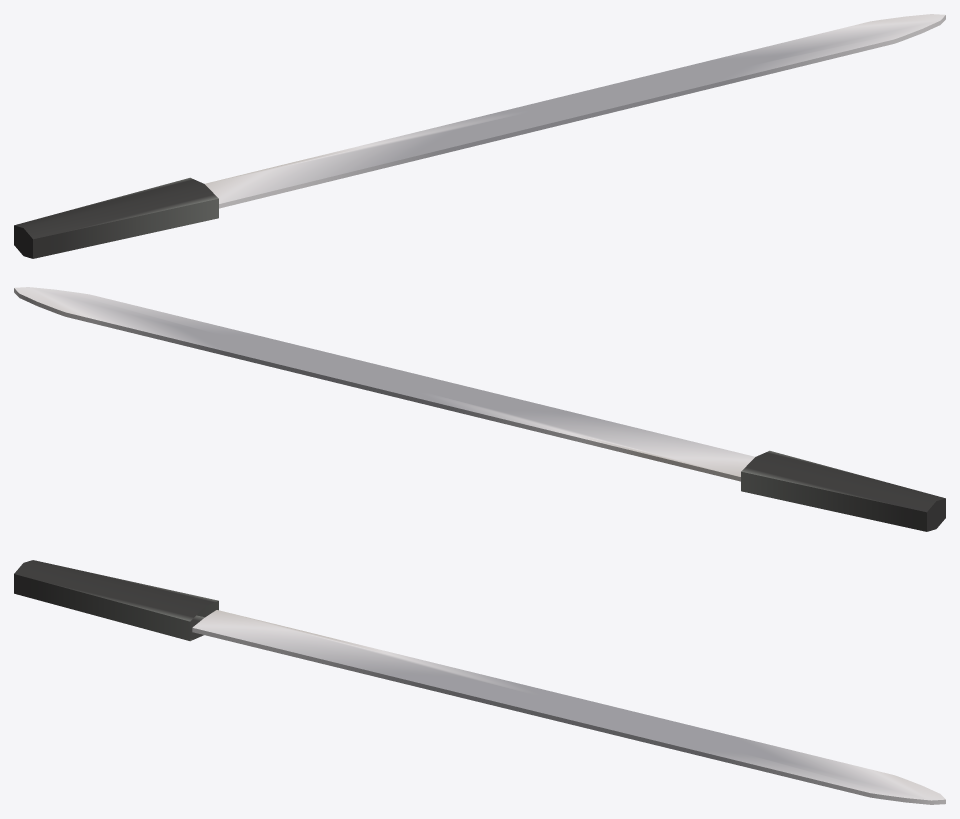
File: LongKitchenKnife.fbx
3 renders of one model, top to bottom at view 1: azimuth 30°, elevation 25°; view 2: azimuth 150°, elevation 25°; view 3: azimuth 330°, elevation 25°, orthographic.
Visible parts, largest first — view 1: LongKitchenKnife; view 2: LongKitchenKnife; view 3: LongKitchenKnife.
Part boxes in pixels (<box>): LongKitchenKnife: <box>14,14,945,258</box>; LongKitchenKnife: <box>14,287,945,531</box>; LongKitchenKnife: <box>14,560,945,804</box>.
Bounding box in the file's own units: 1089 × 31.66 × 58.58.
